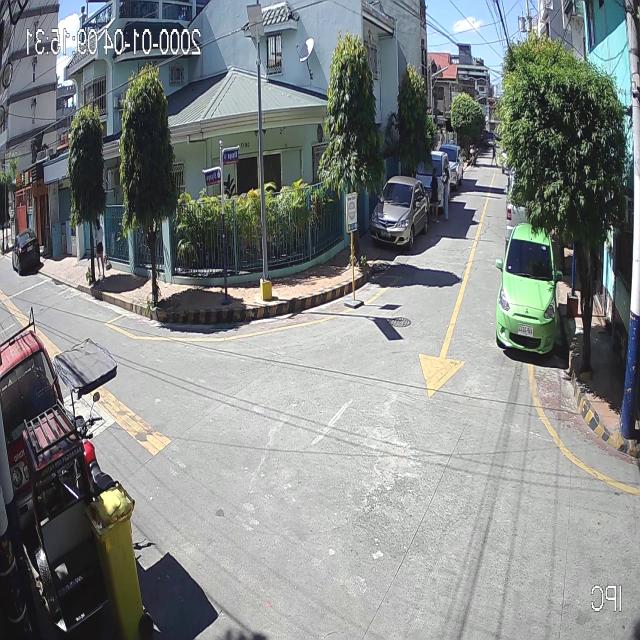standing: (439, 166, 452, 221), (430, 166, 442, 223)
walking: (93, 218, 106, 278), (491, 142, 498, 168)
